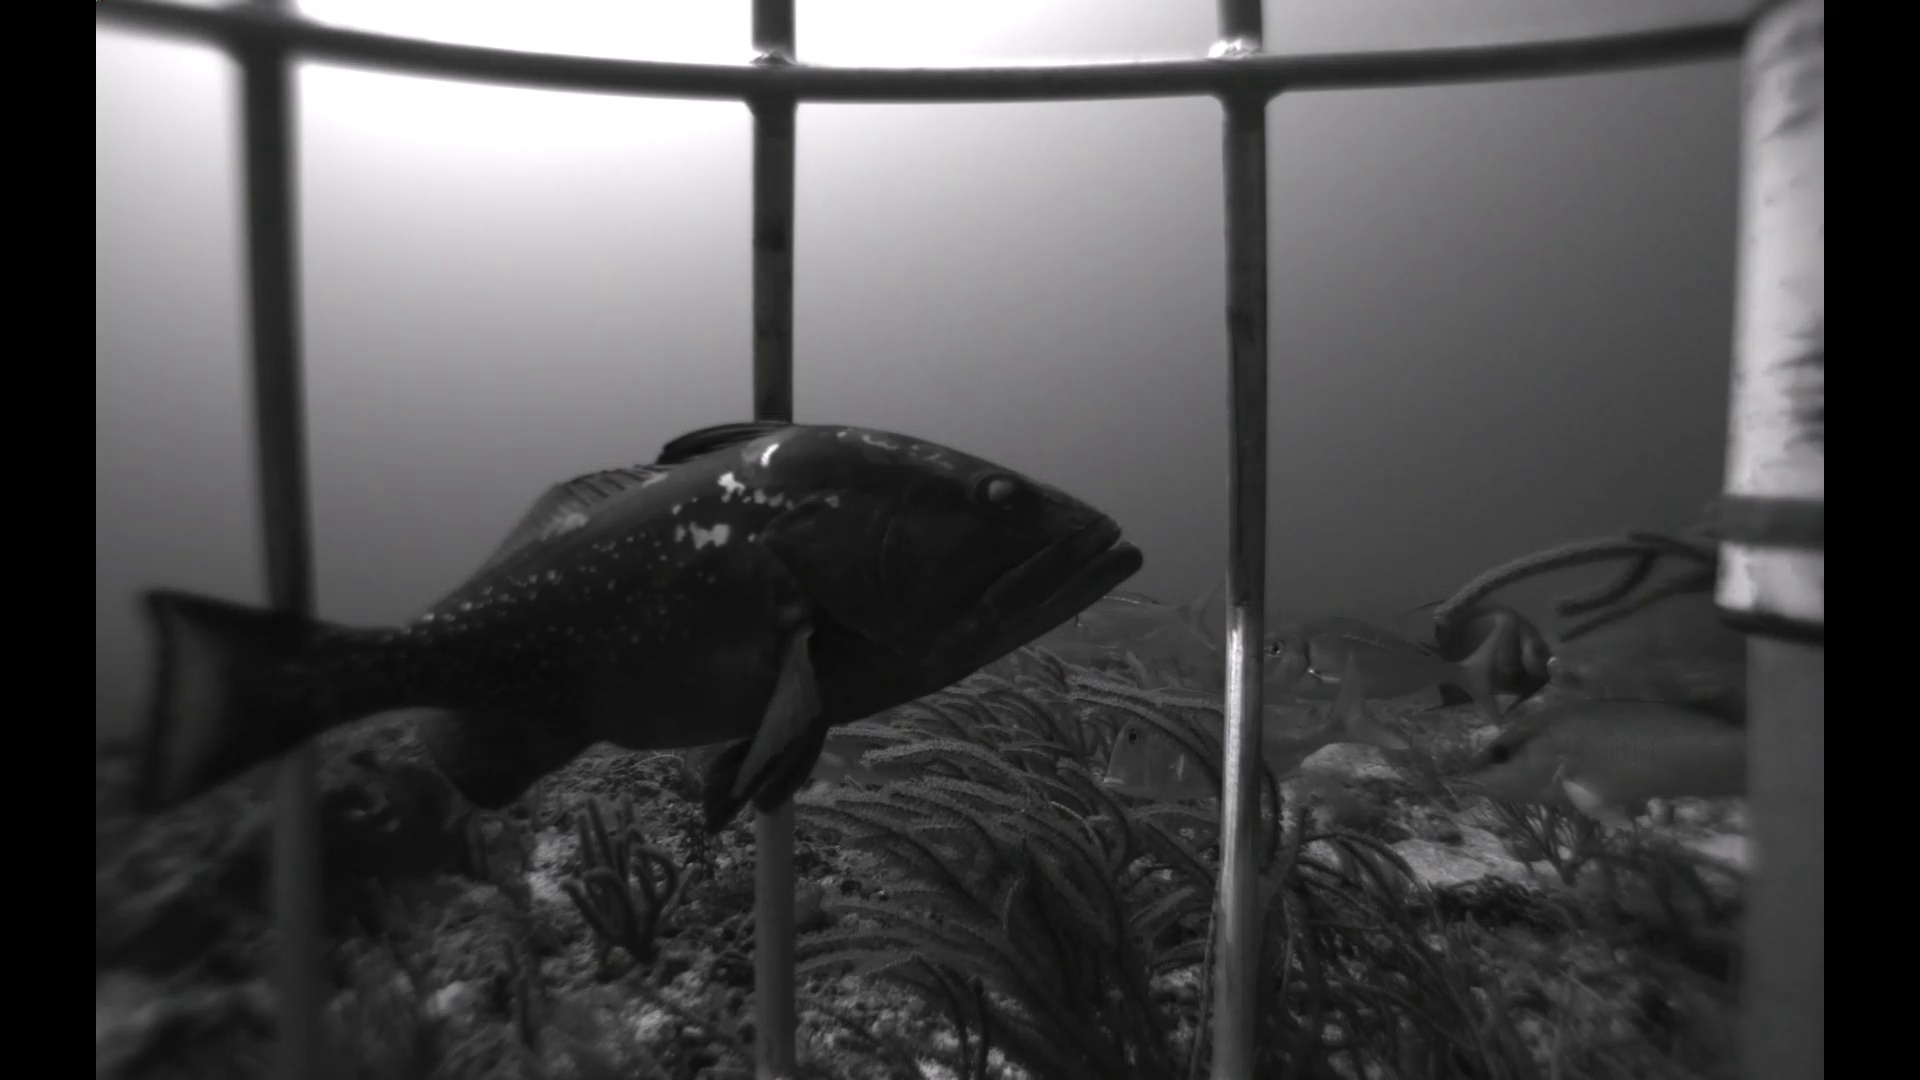CALAMUSNODOSUS-170210608: (1092, 647, 1420, 819)
EPINEPHELUSMORIO-170021211: (127, 396, 1139, 876), (189, 723, 522, 942)
LUTJANUSGRISEUS-170151109: (1457, 682, 1749, 835), (666, 719, 920, 796)
PAGRUSPAGRUS-170212302: (1262, 600, 1513, 723), (1048, 578, 1224, 661)
POMACANTHUSARCUATUS-170290201: (1414, 591, 1569, 717)
